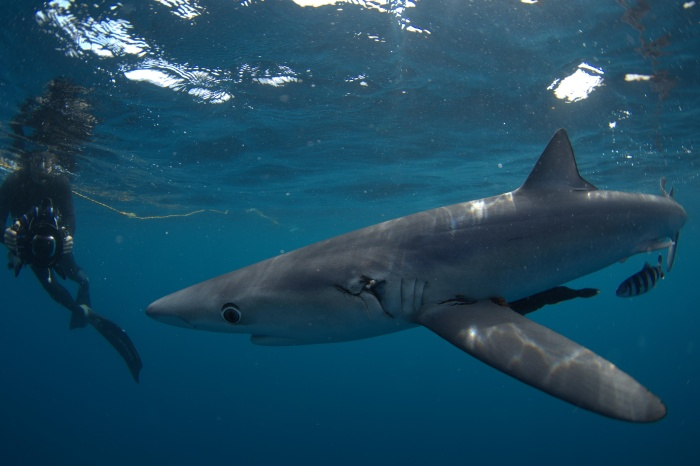Azul: (125, 123, 700, 434)
